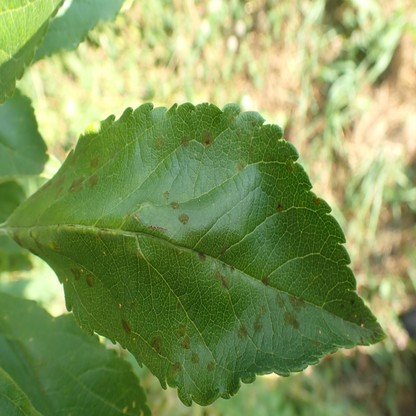scab: (12, 112, 378, 379)
